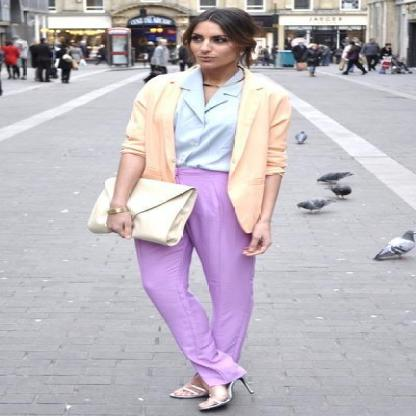bag: (87, 178, 199, 240)
jacket: (121, 68, 294, 219)
pants: (132, 168, 261, 387)
shirt: (168, 64, 246, 172)
shoe: (160, 377, 253, 407)
